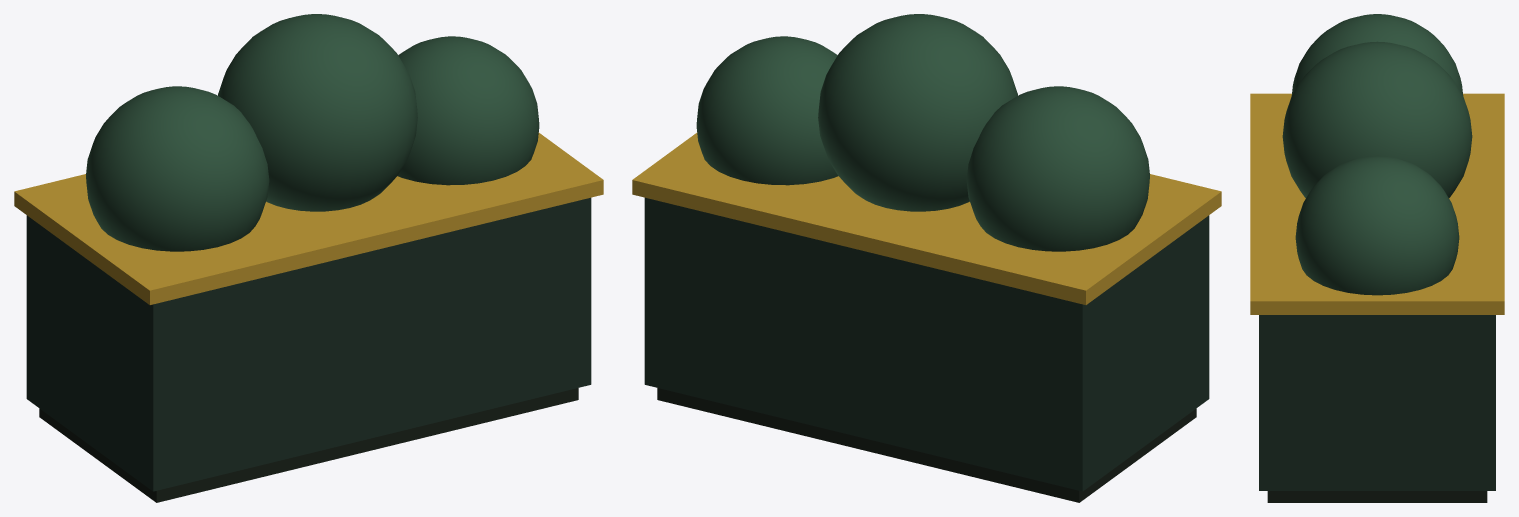
Rendered from planter.glb.
The picture shows the model from 3 angles, left to right: view 1: azimuth 30°, elevation 25°; view 2: azimuth 150°, elevation 25°; view 3: azimuth 270°, elevation 25°; orthographic projection. The views are drawn at different scales.
Visible parts, largest first — view 1: body_front, rim, foliage_2, foliage_1, body_left, foliage_3, foot, body_right, body_back; view 2: body_back, rim, foliage_2, foliage_1, body_left, foliage_3, foot, body_right, body_front; view 3: body_right, rim, foliage_2, foliage_3, foliage_1, body_back, body_front, foot.
Boxes of the visible parts, x1,y1,x2,y2 form: body_front: (141,202,591,491); rim: (14,132,603,304); foliage_2: (218,14,417,211); foliage_1: (86,86,269,251); body_left: (38,224,172,490); foliage_3: (398,36,539,185); foot: (39,388,578,502); body_right: (571,197,591,388); body_back: (26,215,38,406); body_back: (644,202,1094,491); rim: (632,132,1221,304); foliage_2: (818,14,1017,211); foliage_1: (966,86,1149,251); body_left: (1063,224,1209,491); foliage_3: (696,36,837,185); foot: (657,388,1196,502); body_right: (644,197,664,388); body_front: (1197,215,1209,406); body_right: (1259,315,1495,490); rim: (1250,93,1504,314); foliage_2: (1282,41,1472,197); foliage_3: (1295,155,1459,295); foliage_1: (1291,14,1463,95); body_back: (1474,315,1495,490); body_front: (1259,315,1280,490); foot: (1267,491,1487,502).
Bounding box in the file's own units: 1.14 × 0.92 × 0.59.
